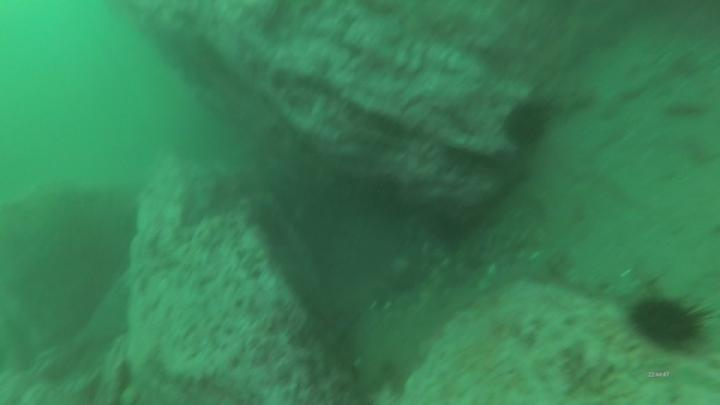echinus: (625, 287, 712, 352), (501, 103, 549, 151)
